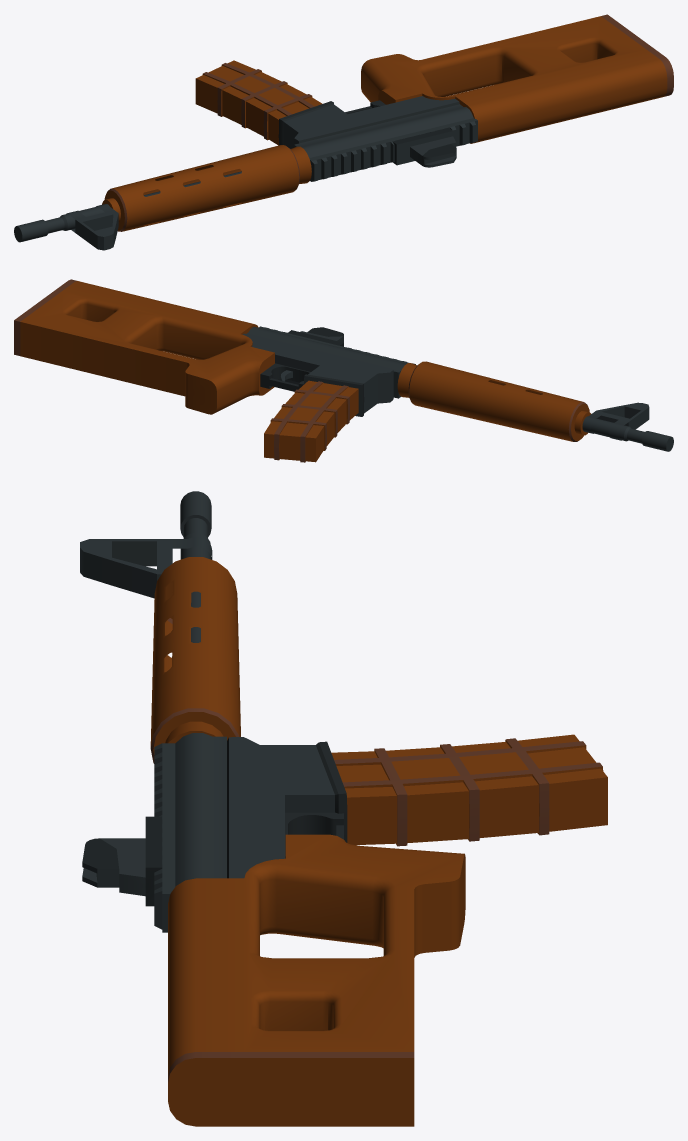
The model's file is robotmaingun3.fbx.
3 views of the same model, one above another, from view 1: azimuth 30°, elevation 25°; view 2: azimuth 150°, elevation 25°; view 3: azimuth 270°, elevation 25° (orthographic). The views are drawn at different scales.
Parts seen in each view (by area): view 1: MG2; view 2: MG2; view 3: MG2.
Boxes of the visible parts, <box> form: MG2: <box>14,14,673,250</box>; MG2: <box>14,279,673,462</box>; MG2: <box>80,491,607,1126</box>.
Size of the model in its own units: 4.25 by 0.2736 by 1.62.
